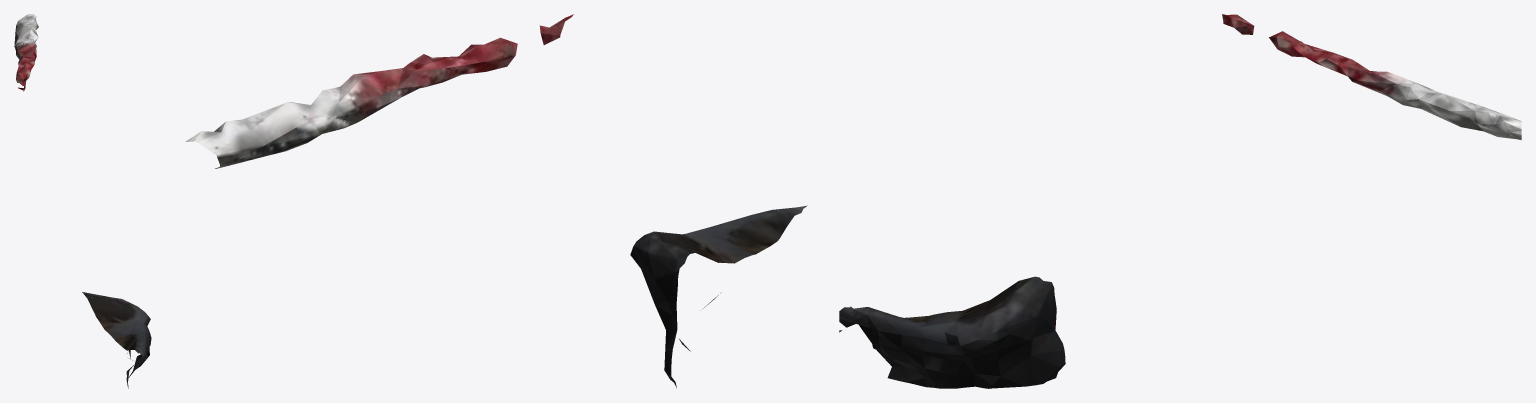
3 views of the same model, side by side, from view 1: azimuth 30°, elevation 25°; view 2: azimuth 150°, elevation 25°; view 3: azimuth 270°, elevation 25° (orthographic). The views are drawn at different scales.
Bounding box in the file's own units: 0.2401 × 0.4932 × 0.8374.
1 material, 1 textured.
